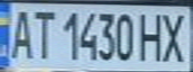0: (112, 10, 139, 62)
1: (57, 8, 81, 61)
3: (97, 9, 118, 62)
4: (78, 8, 100, 62)
A: (6, 6, 36, 61)
H: (136, 9, 166, 62)
T: (30, 6, 57, 61)
X: (157, 9, 193, 63)
